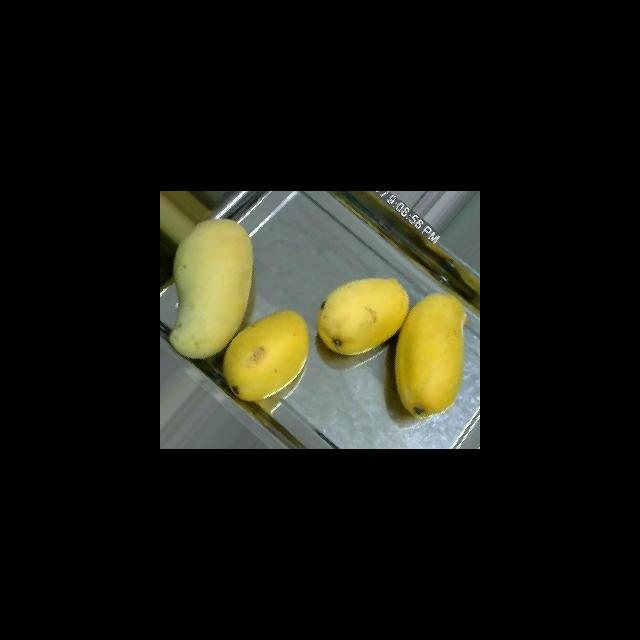mango: (168, 218, 253, 359), (394, 292, 466, 419), (222, 308, 309, 401), (316, 277, 409, 355)
